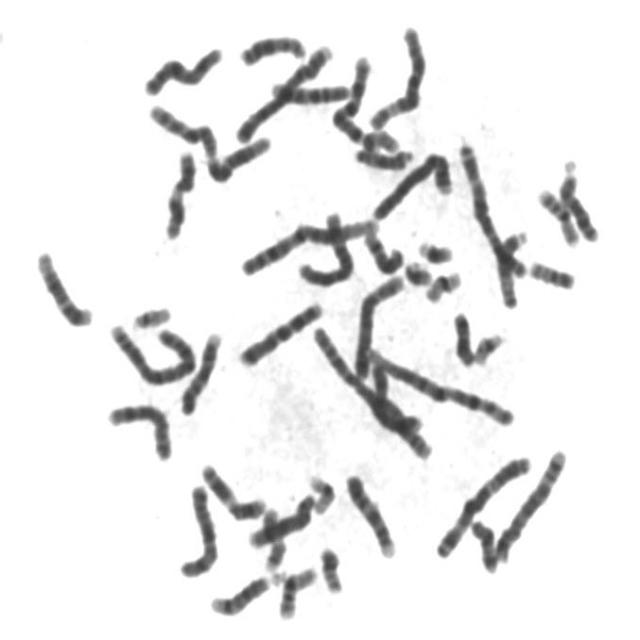A1: (362, 342, 519, 429), (234, 208, 380, 279)
A2: (306, 317, 434, 461), (103, 313, 200, 388)
A3: (429, 446, 535, 561), (452, 132, 529, 280)
B4: (228, 35, 336, 145), (366, 142, 456, 222)
B5: (490, 440, 570, 564), (347, 265, 409, 382)
C10: (143, 102, 216, 157), (266, 72, 354, 106)
C11: (195, 456, 268, 522), (157, 142, 198, 242)
C12: (30, 241, 96, 329), (200, 127, 273, 184)
C6: (363, 17, 429, 131), (292, 204, 360, 288)
C7: (233, 293, 327, 369), (327, 47, 375, 144)
C8: (100, 394, 176, 463), (243, 486, 319, 550)
C9: (340, 465, 400, 560), (174, 324, 225, 417)
D13: (554, 153, 603, 245), (234, 26, 309, 68)
D14: (204, 566, 279, 618), (358, 222, 407, 277)
D15: (492, 221, 532, 310), (349, 140, 416, 172)
E16: (532, 179, 584, 248), (272, 558, 320, 621)
E17: (352, 122, 415, 164), (256, 499, 288, 574)
E18: (465, 511, 501, 574), (447, 304, 478, 368)
F19: (420, 263, 465, 305), (302, 466, 338, 516)
F20: (522, 251, 578, 292), (314, 539, 346, 595)
G21: (412, 231, 457, 265), (399, 252, 436, 288)
G22: (468, 323, 508, 367), (126, 296, 174, 330)
X: (352, 346, 426, 443), (137, 38, 226, 98), (173, 477, 220, 580)
